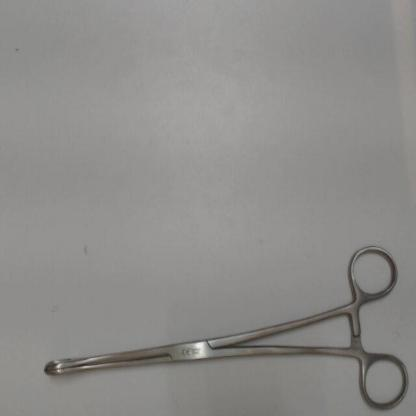Sponge Forceps: (34, 237, 411, 415)
